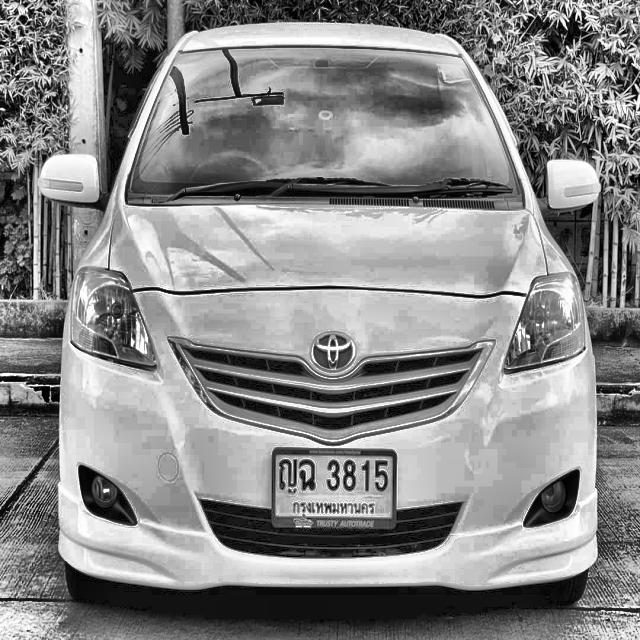license-plate: (270, 442, 398, 532)
